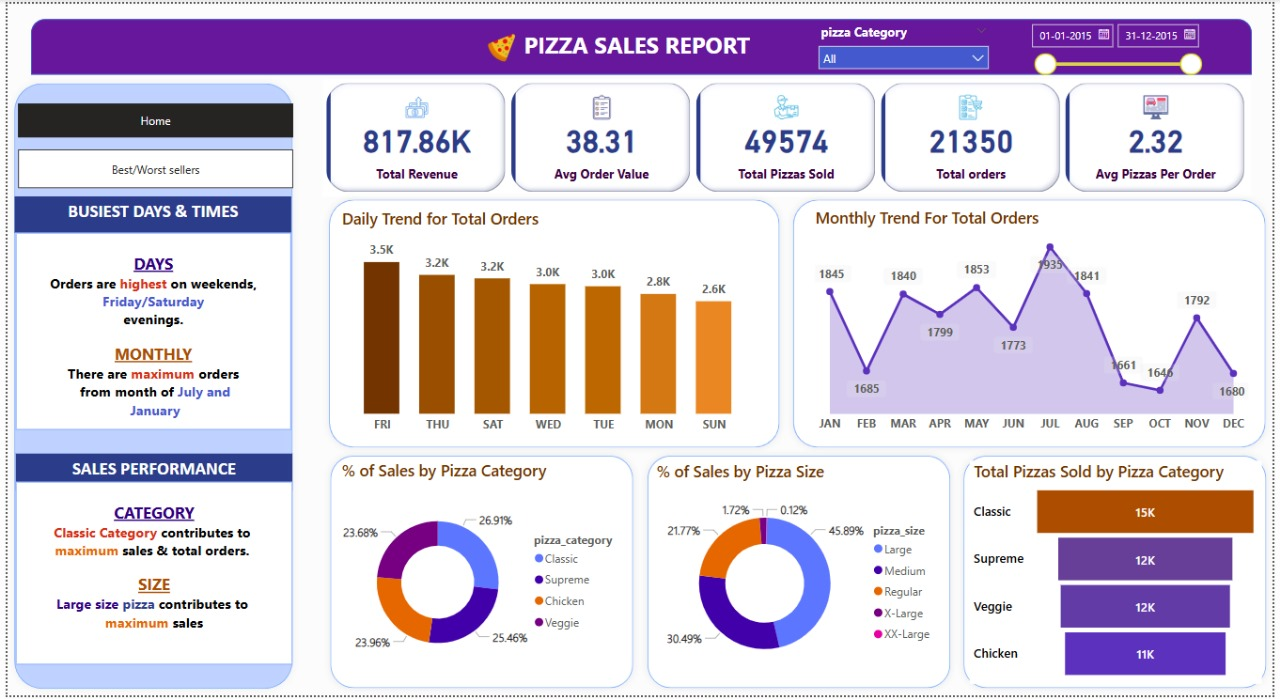

What the dashboard file says about the page in this screenshot:
{"tool":"powerbi","page":{"name":"Home","canvas":[1500,820],"ordinal":0},"visuals":[{"type":"cardVisual","fields":{"Data":["pizza_sales.Total Revenue","pizza_sales.Avg Order Value","pizza_sales.Total Pizzas Sold","pizza_sales.Total orders","pizza_sales.Avg Pizzas Per Order"]},"box":[373.2,88.9,1101.9,139.6],"z":0},{"type":"shape","box":[27.9,17.8,1447.2,66],"z":1000},{"type":"textbox","box":[606.8,25.4,286.9,53.3],"z":2000},{"type":"image","box":[553.5,30.5,66,43.2],"z":3000},{"type":"shape","box":[373.2,223.7,550,310],"z":4000},{"type":"columnChart","title":"Daily Trend for Total Orders","fields":{"Category":["pizza_sales.Order Day"],"Y":["pizza_sales.Total orders"]},"box":[391.2,241.7,500,276],"z":5000},{"type":"shape","box":[923.2,223.7,576,310],"z":6000},{"type":"areaChart","title":"Monthly Trend For Total Orders","fields":{"Category":["pizza_sales.Order Month"],"Y":["pizza_sales.Total orders"]},"box":[952.6,240.4,523.3,276.7],"z":7000},{"type":"shape","box":[375,528.3,375,291.7],"z":8000},{"type":"shape","box":[750,528.3,375,291.7],"z":9000},{"type":"shape","box":[1125,528.3,375,291.7],"z":10000},{"type":"donutChart","title":"% of Sales by Pizza Category","fields":{"Category":["pizza_sales.pizza_category"],"Y":["pizza_sales.Total Revenue"]},"box":[391.7,540,346.7,266.7],"z":11000},{"type":"shape","box":[0,86,346,734],"z":12000},{"type":"donutChart","title":"% of Sales by Pizza Size","fields":{"Y":["pizza_sales.Total Revenue"],"Category":["pizza_sales.pizza_size"]},"box":[765,541.7,346.7,266.7],"z":13000},{"type":"funnel","title":"Total Pizzas Sold by Pizza Category","fields":{"Category":["pizza_sales.pizza_category"],"Y":["pizza_sales.Total Pizzas Sold"]},"box":[1140,541.7,346.7,265],"z":14000},{"type":"textbox","box":[8.3,228.3,328.3,43.3],"z":15000},{"type":"textbox","box":[10,271.7,326.7,233.3],"z":16000},{"type":"textbox","box":[10,533.3,328.3,43.3],"z":17000},{"type":"textbox","box":[10,566.7,328.3,216.7],"z":18000},{"type":"slicer","fields":{"Values":["pizza_sales.pizza_category"]},"box":[951.7,18.3,221.7,68.3],"z":19000},{"type":"slicer","fields":{"Values":["pizza_sales.order_date"]},"box":[1202,14,222,74],"z":20000},{"type":"pageNavigator","box":[12,118,326,40],"z":21000},{"type":"pageNavigator","box":[12,172,326,46],"z":22000}]}

Visuals, with their boxes in screenshot pixels (x1, y1, x2, y2), scaled from the page's 1500x820 canvas onto the 1280x699 screenshot:
cardVisual - pizza_sales.Total Revenue x pizza_sales.Avg Order Value: bbox=(318, 76, 1259, 195)
shape: bbox=(24, 15, 1259, 71)
textbox: bbox=(518, 22, 763, 67)
image: bbox=(472, 26, 529, 63)
shape: bbox=(318, 191, 788, 455)
"Daily Trend for Total Orders" columnChart: bbox=(334, 206, 760, 441)
shape: bbox=(788, 191, 1279, 455)
"Monthly Trend For Total Orders" areaChart: bbox=(813, 205, 1259, 441)
shape: bbox=(320, 450, 640, 698)
shape: bbox=(640, 450, 960, 698)
shape: bbox=(960, 450, 1279, 698)
"% of Sales by Pizza Category" donutChart: bbox=(334, 460, 630, 688)
shape: bbox=(0, 73, 295, 698)
"% of Sales by Pizza Size" donutChart: bbox=(653, 462, 949, 689)
"Total Pizzas Sold by Pizza Category" funnel: bbox=(973, 462, 1269, 688)
textbox: bbox=(7, 195, 287, 232)
textbox: bbox=(9, 232, 287, 430)
textbox: bbox=(9, 455, 289, 492)
textbox: bbox=(9, 483, 289, 668)
slicer - pizza_sales.pizza_category: bbox=(812, 16, 1001, 74)
slicer - pizza_sales.order_date: bbox=(1026, 12, 1215, 75)
pageNavigator: bbox=(10, 101, 288, 135)
pageNavigator: bbox=(10, 147, 288, 186)
